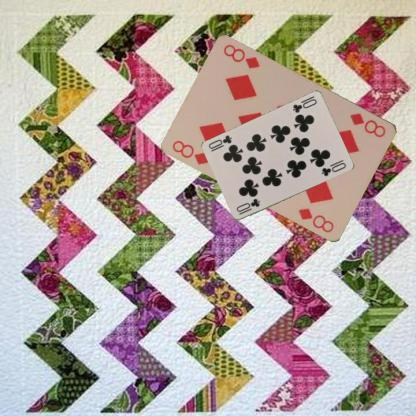10c: (234, 196, 261, 216), (290, 96, 318, 114)
8d: (170, 137, 210, 166), (347, 110, 388, 138)
